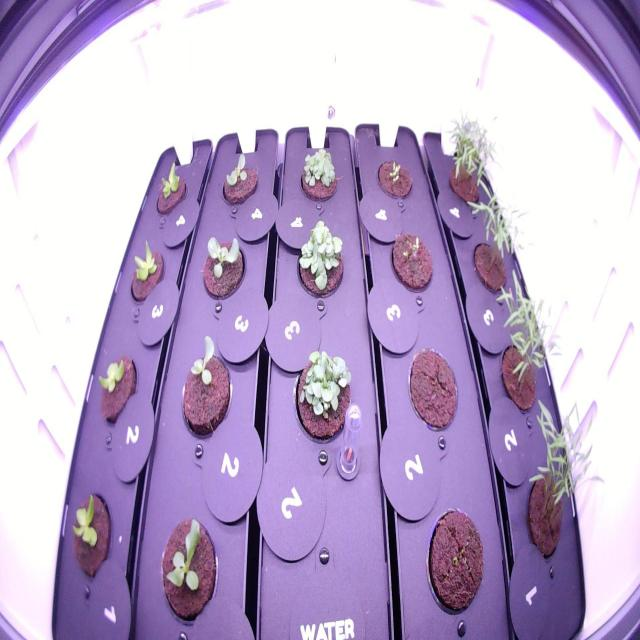germination: (385, 221, 436, 298), (373, 152, 418, 207)
pod: (420, 494, 488, 624), (401, 338, 463, 446)
young: (154, 507, 222, 631), (174, 328, 235, 445), (66, 478, 116, 594), (92, 344, 140, 436), (195, 226, 250, 306), (124, 232, 170, 310), (216, 147, 262, 212), (150, 157, 190, 221)
